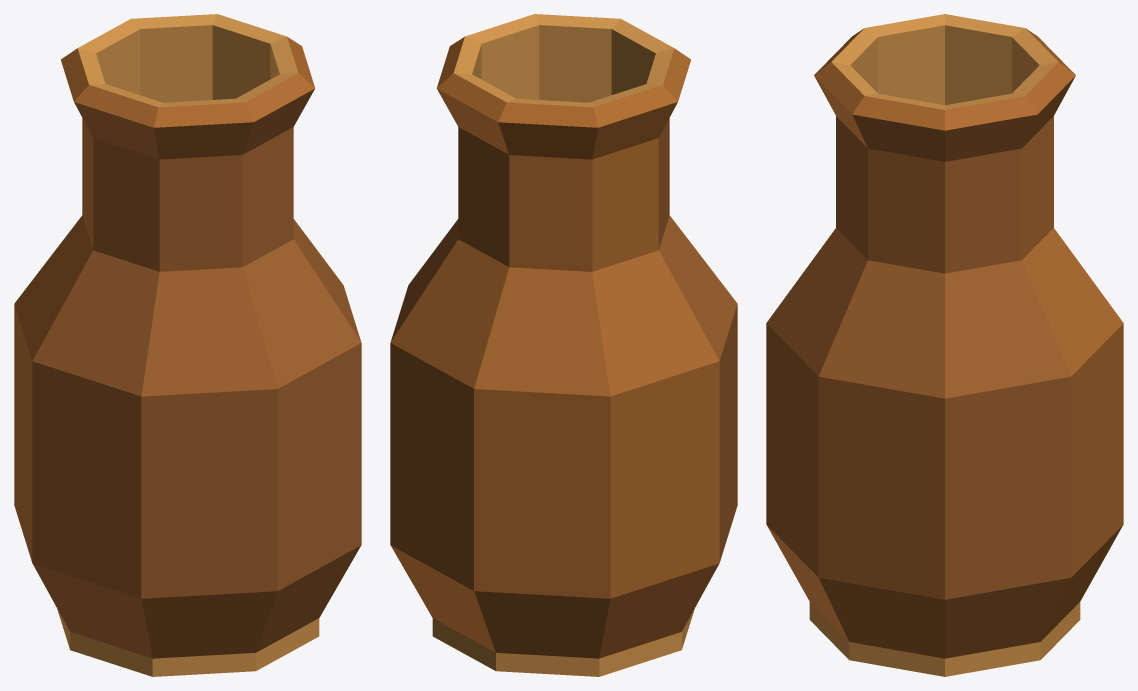
Rendered from jug_light.fbx.
The picture shows the model from 3 angles, left to right: view 1: azimuth 30°, elevation 25°; view 2: azimuth 150°, elevation 25°; view 3: azimuth 270°, elevation 25°; orthographic projection.
Visible parts, largest first — view 1: Circle; view 2: Circle; view 3: Circle.
Boxes of the visible parts, bbox=[...] form: Circle: bbox=[14, 14, 361, 676]; Circle: bbox=[390, 14, 737, 676]; Circle: bbox=[766, 14, 1123, 676].
Size of the model in its own units: 19.5 by 33.58 by 19.5.
